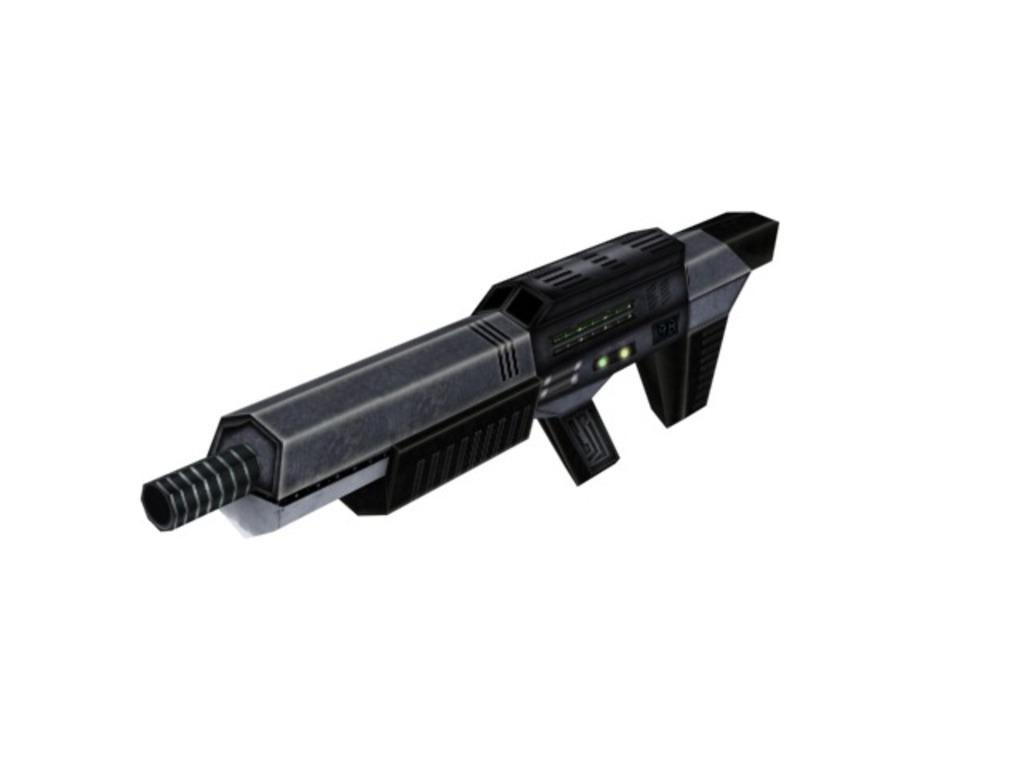Rifle: (138, 211, 779, 533)
